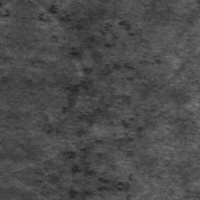rolled-in_scale: (43, 55, 147, 186), (30, 0, 146, 107)
